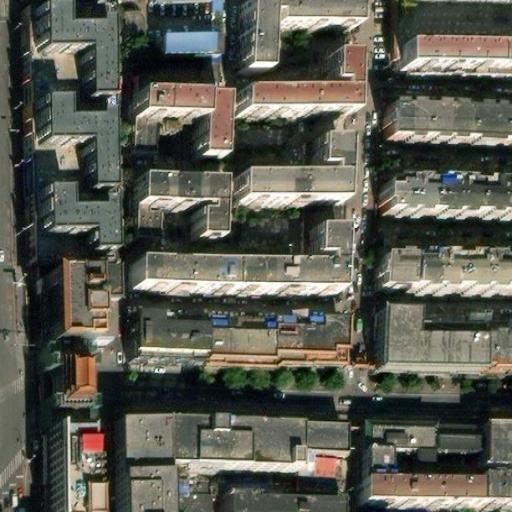building: (23, 0, 99, 273), (134, 232, 338, 294), (134, 309, 343, 357), (113, 422, 292, 471), (378, 313, 512, 376), (244, 3, 354, 70), (34, 115, 108, 207), (237, 56, 350, 115), (31, 17, 103, 109), (239, 140, 340, 200), (360, 422, 473, 474), (379, 243, 512, 285), (376, 171, 512, 212), (133, 94, 220, 153), (134, 181, 217, 241), (383, 100, 512, 137), (47, 287, 109, 363), (36, 207, 108, 270), (395, 38, 512, 71), (363, 481, 479, 509), (292, 418, 338, 480), (417, 312, 512, 342), (43, 447, 82, 512), (130, 120, 196, 158), (218, 492, 330, 512), (134, 76, 212, 97), (478, 429, 512, 473), (160, 43, 215, 67), (56, 390, 80, 430), (478, 482, 512, 509), (123, 497, 172, 512), (396, 0, 512, 4)
